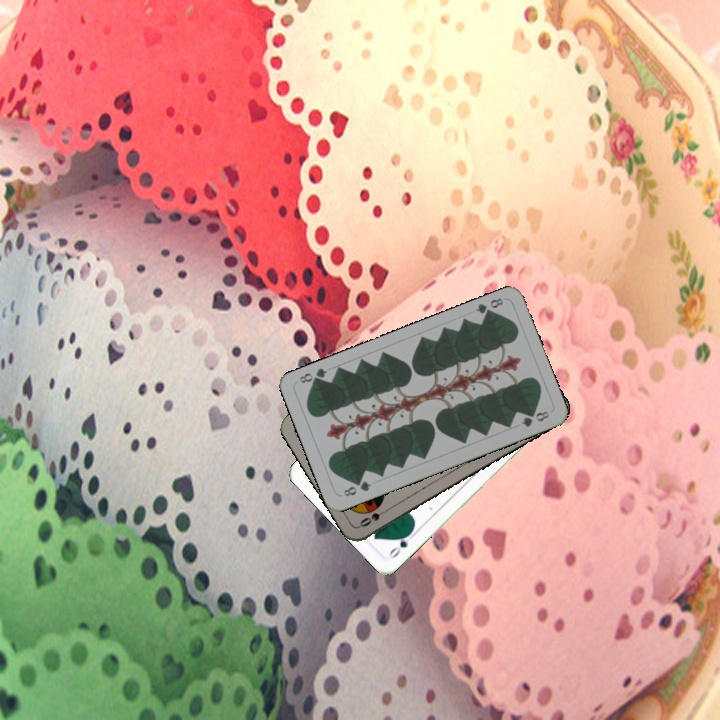G8: (471, 294, 506, 320), (339, 477, 374, 499)
GO: (384, 527, 418, 561)
SO: (355, 504, 393, 530)
